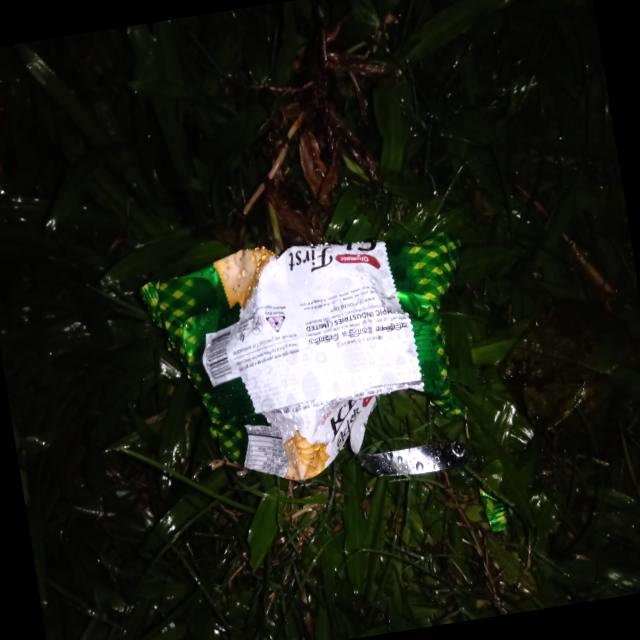packet: (143, 207, 497, 487)
